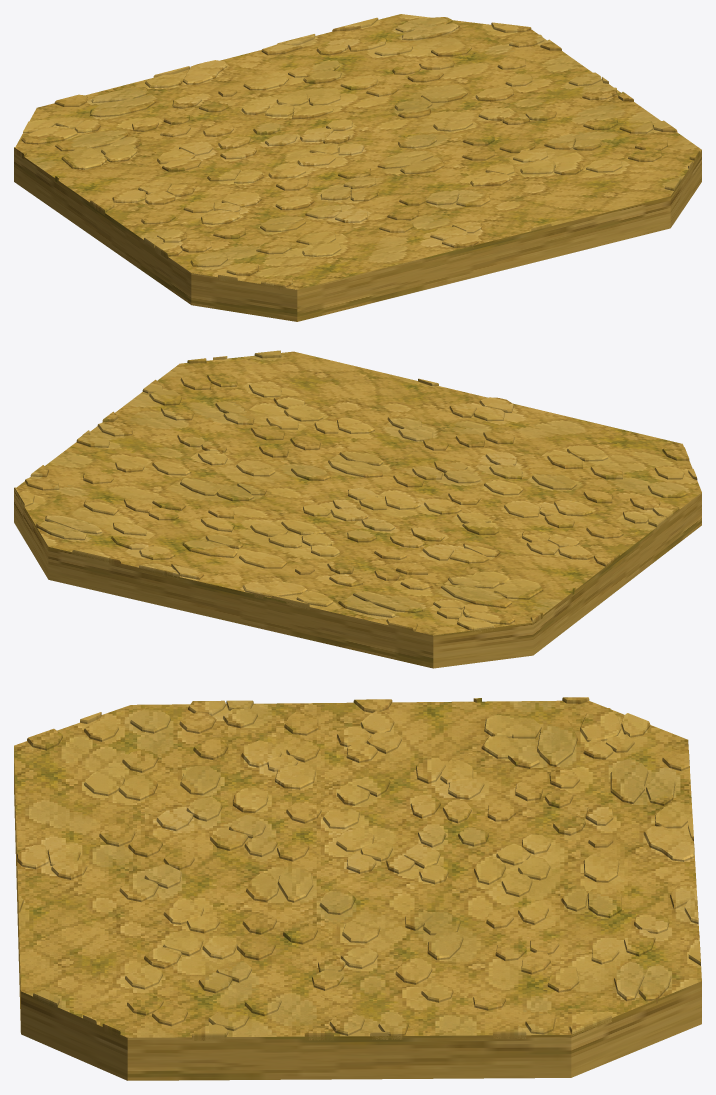
File: SM_Blender_TrailPatch.glb
3 views of the same model, one above another, from view 1: azimuth 30°, elevation 25°; view 2: azimuth 150°, elevation 25°; view 3: azimuth 270°, elevation 25° (orthographic). The views are drawn at different scales.
Parts seen in each view (by area): view 1: SM_Blender_TrailPatch; view 2: SM_Blender_TrailPatch; view 3: SM_Blender_TrailPatch.
Part boxes in pixels (x1,y1,x2,y2): SM_Blender_TrailPatch: (14,14,701,321); SM_Blender_TrailPatch: (14,350,701,668); SM_Blender_TrailPatch: (14,697,701,1080).
Bounding box in the file's own units: 2.32 × 0.149 × 2.
1 material, 1 textured.
